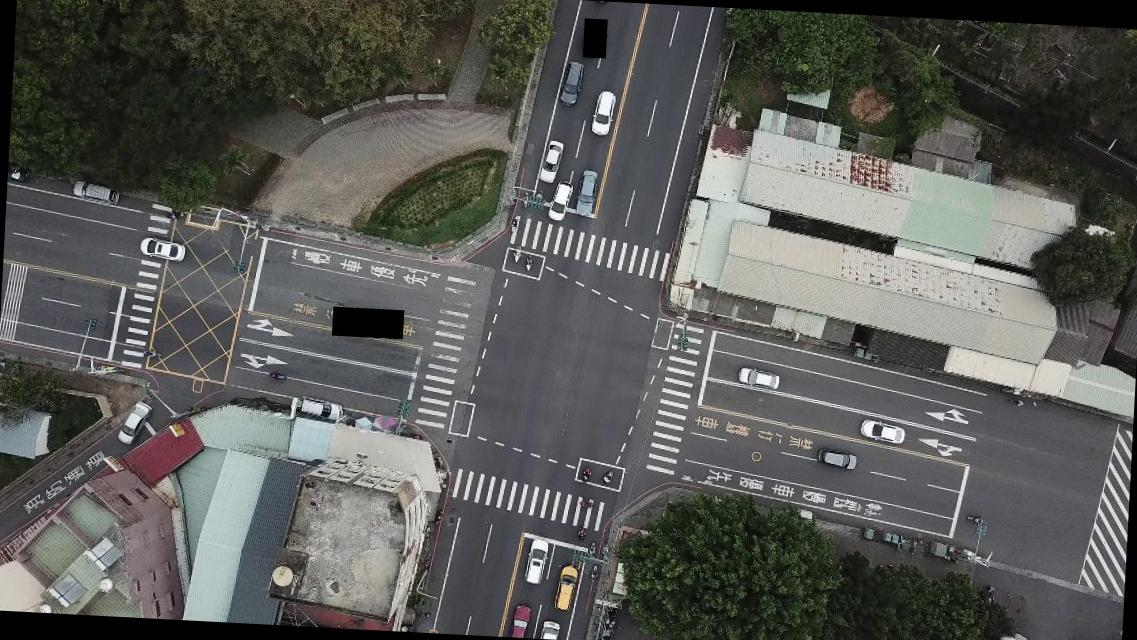vehicle: (115, 401, 151, 448), (294, 395, 343, 424), (521, 537, 549, 587), (587, 91, 617, 137), (556, 60, 586, 106), (68, 180, 120, 206), (857, 418, 905, 446), (552, 566, 578, 614), (138, 236, 186, 262), (545, 180, 572, 221), (736, 365, 778, 391), (574, 169, 596, 217), (538, 140, 562, 184), (816, 448, 858, 472), (505, 604, 531, 638), (539, 620, 561, 639)
